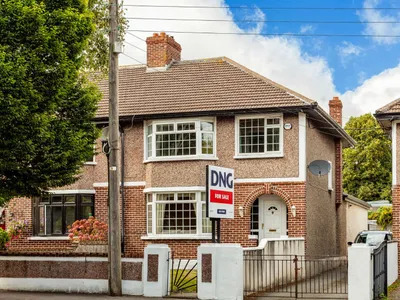property sign: (200, 160, 239, 223)
